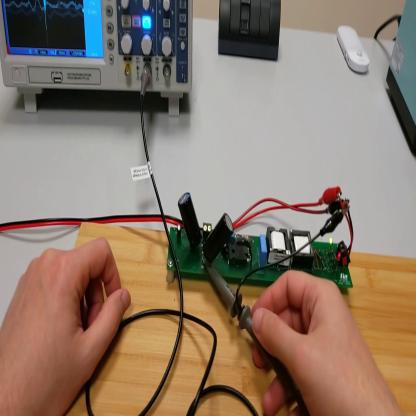hand: (2, 236, 135, 416), (248, 267, 386, 415)
high voltage board: (162, 177, 360, 297)
oscilloscope: (2, 1, 196, 118)
oscilloscope probe tip: (204, 267, 308, 412)
welder station: (387, 2, 416, 161)
working area: (62, 222, 416, 416)
